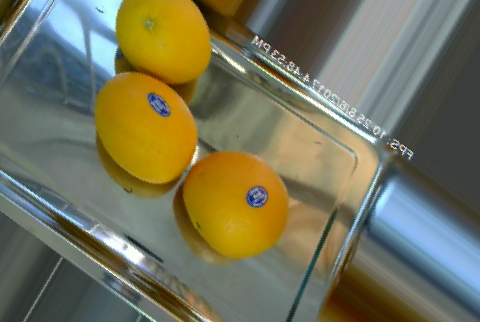Orange: (92, 71, 197, 185), (180, 149, 288, 259), (115, 1, 211, 84)
